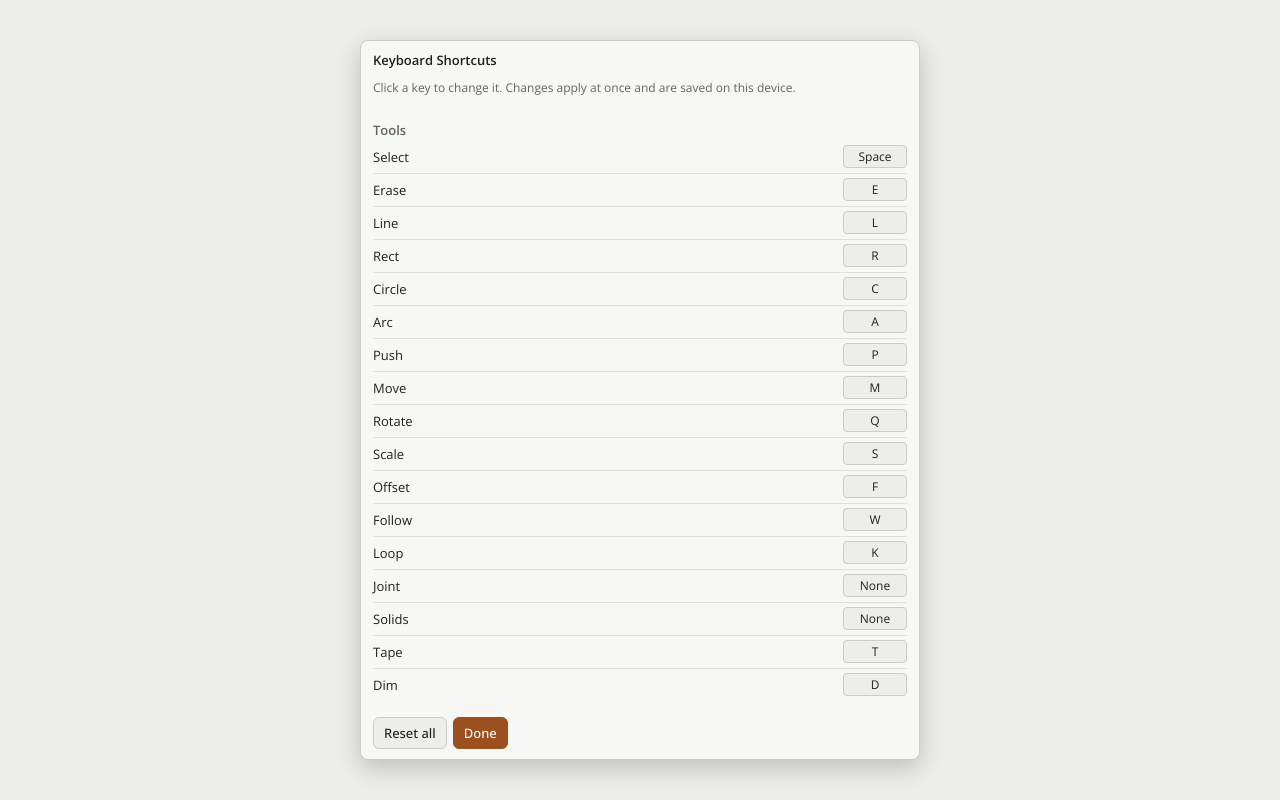
Test: the Keyboard Shortcuts page › explains a refused key and keeps listening
Click the button "L": x=875, y=223 [843, 211, 907, 234]
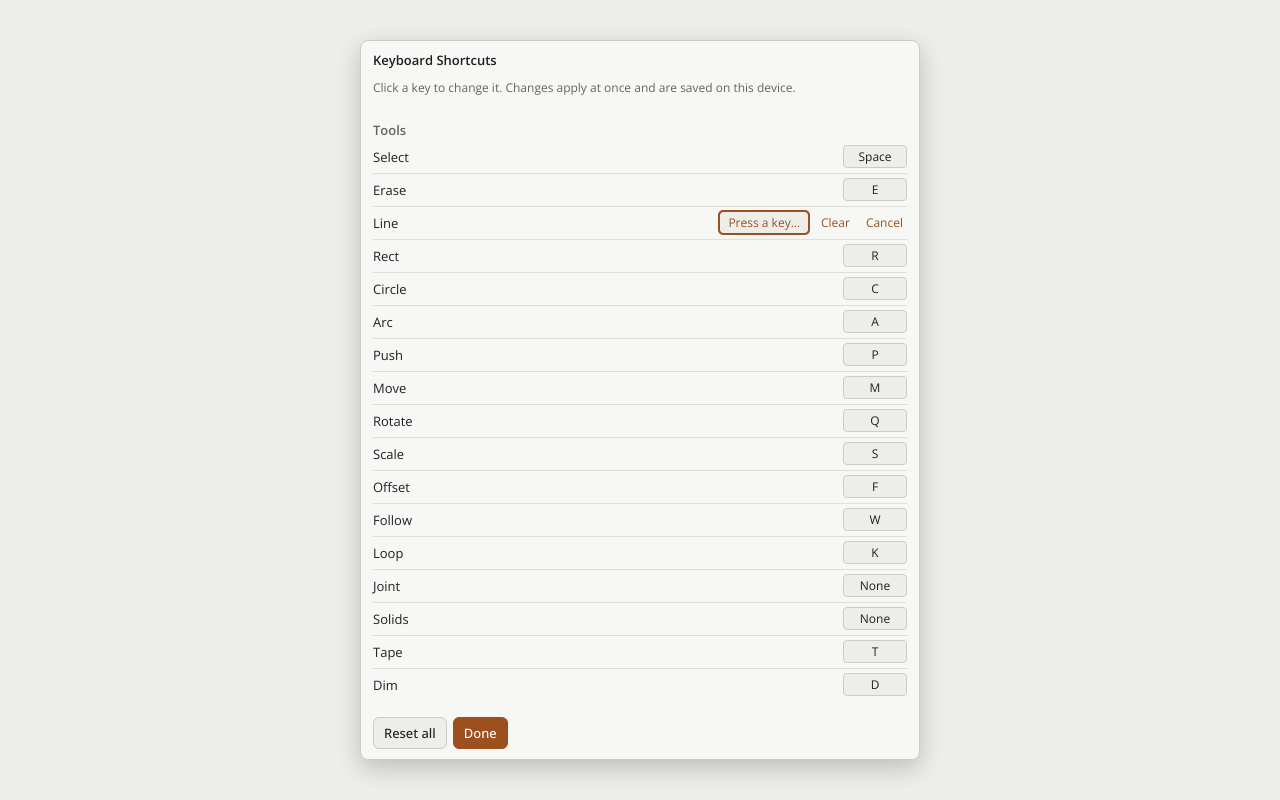
Press 5 in the button "Press a key…", box [719, 211, 809, 234]
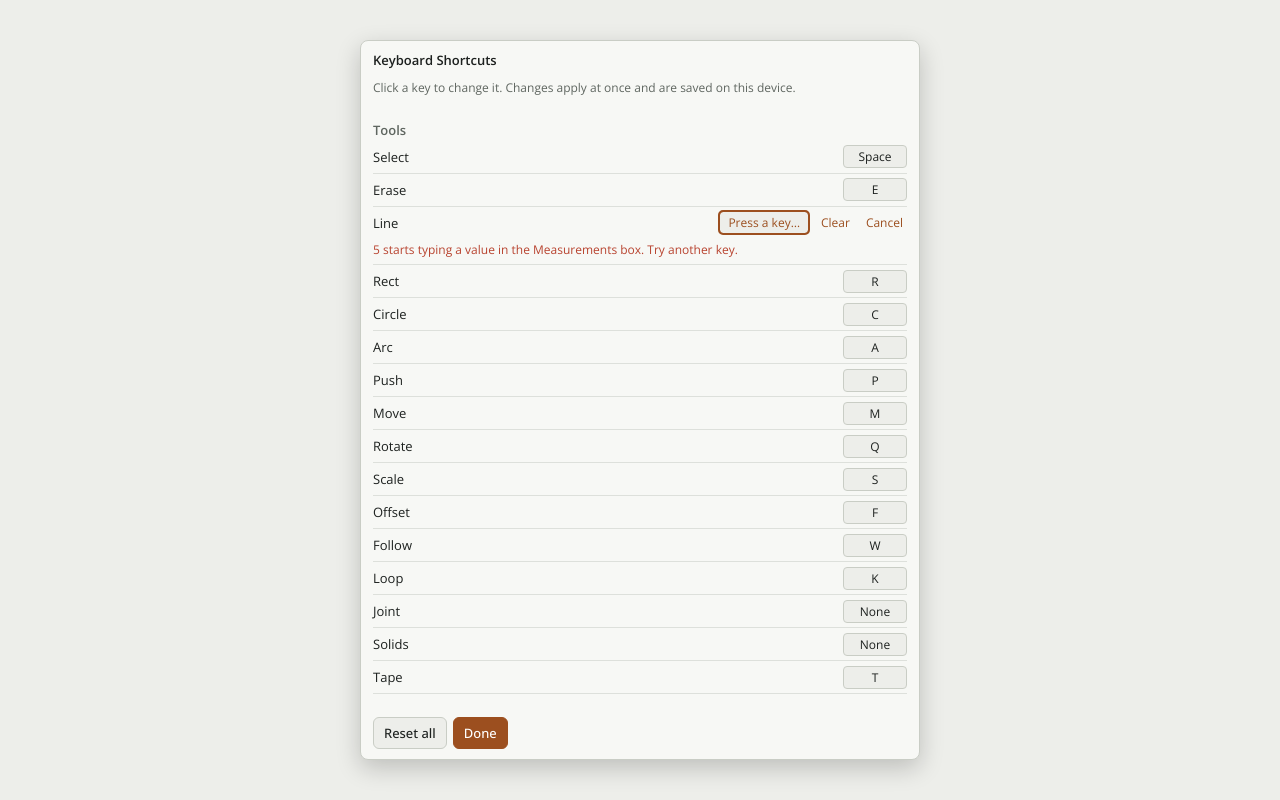
Result: the message shows "Measurements box" at [373, 241, 738, 258]
Press j in the button "Press a key…", box [719, 211, 809, 234]
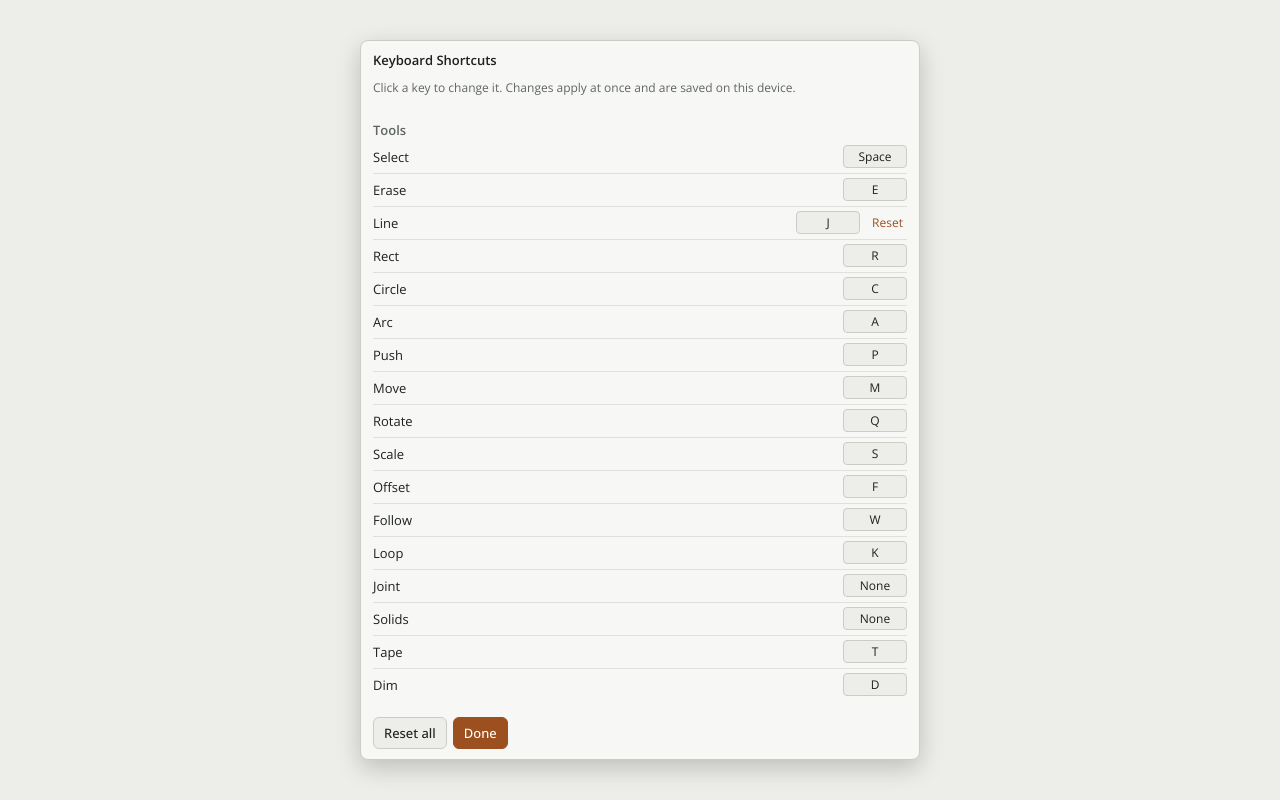
Result: the message "5 starts typing a value in the Measurements box. Try another key." is gone
